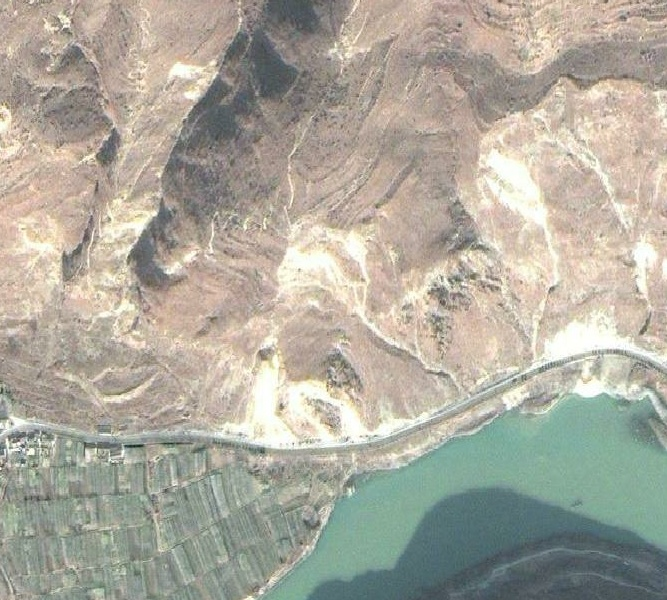slope: (219, 326, 415, 450), (472, 143, 561, 291), (276, 215, 372, 322), (530, 299, 666, 371), (157, 52, 224, 106), (629, 237, 662, 298)
